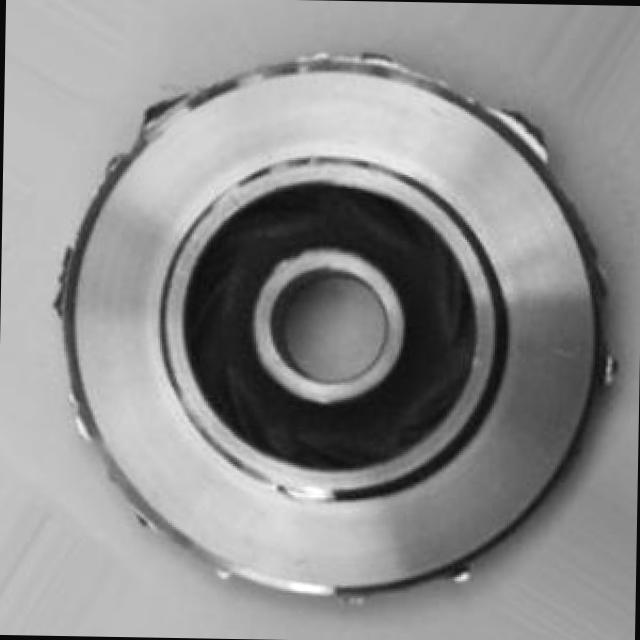Defect: (130, 94, 187, 125)
